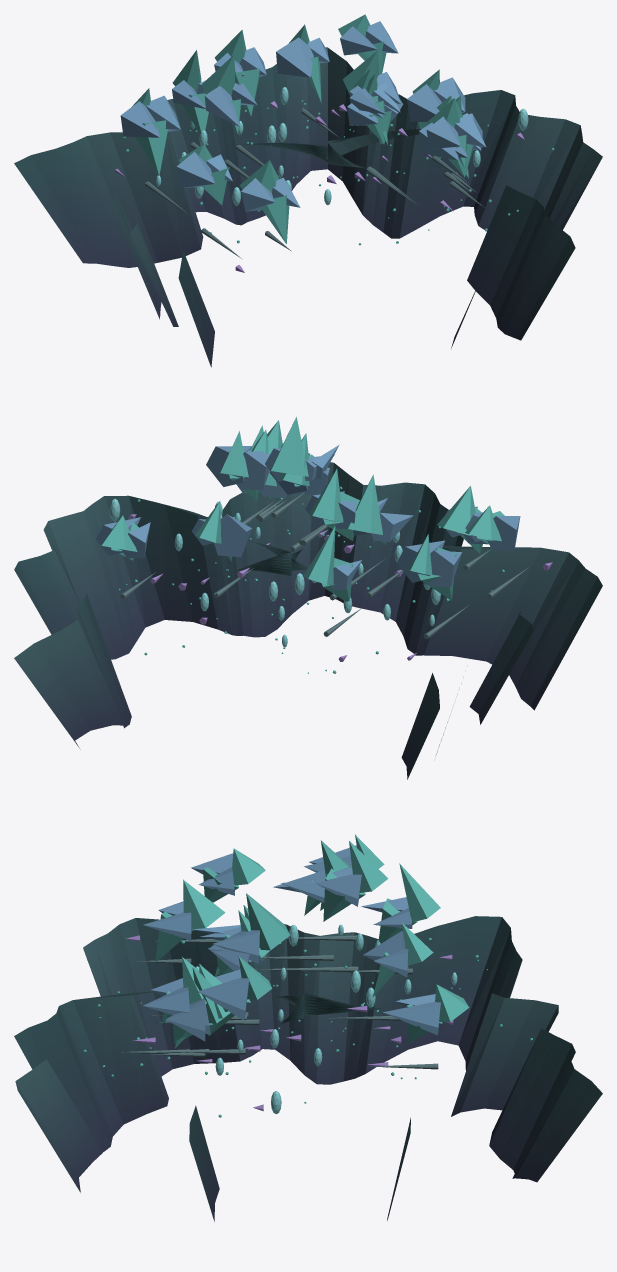
The model's file is hexcore_living_landscape_02.glb.
The picture shows the model from 3 angles, top to bottom: view 1: azimuth 30°, elevation 25°; view 2: azimuth 150°, elevation 25°; view 3: azimuth 270°, elevation 25°; orthographic projection. The views are drawn at different scales.
Visible parts, largest first — view 1: ELVEN_GROWN_TERRAIN, SCULPTURAL_ELVEN_CANOPIES, BIO_LUMINESCENT_GROUND_LIFE; view 2: ELVEN_GROWN_TERRAIN, SCULPTURAL_ELVEN_CANOPIES, BIO_LUMINESCENT_GROUND_LIFE; view 3: ELVEN_GROWN_TERRAIN, SCULPTURAL_ELVEN_CANOPIES, BIO_LUMINESCENT_GROUND_LIFE.
Part boxes in pixels (x1=…): ELVEN_GROWN_TERRAIN: x1=14, y1=47, x2=602, y2=367; SCULPTURAL_ELVEN_CANOPIES: x1=120, y1=14, x2=486, y2=259; BIO_LUMINESCENT_GROUND_LIFE: x1=115, y1=87, x2=554, y2=272; ELVEN_GROWN_TERRAIN: x1=14, y1=462, x2=602, y2=779; SCULPTURAL_ELVEN_CANOPIES: x1=96, y1=417, x2=528, y2=639; BIO_LUMINESCENT_GROUND_LIFE: x1=109, y1=486, x2=552, y2=673; ELVEN_GROWN_TERRAIN: x1=14, y1=916, x2=602, y2=1221; SCULPTURAL_ELVEN_CANOPIES: x1=121, y1=834, x2=469, y2=1069; BIO_LUMINESCENT_GROUND_LIFE: x1=83, y1=924, x2=532, y2=1117.
Bounding box in the file's own units: 85.83 × 47.53 × 88.18.
